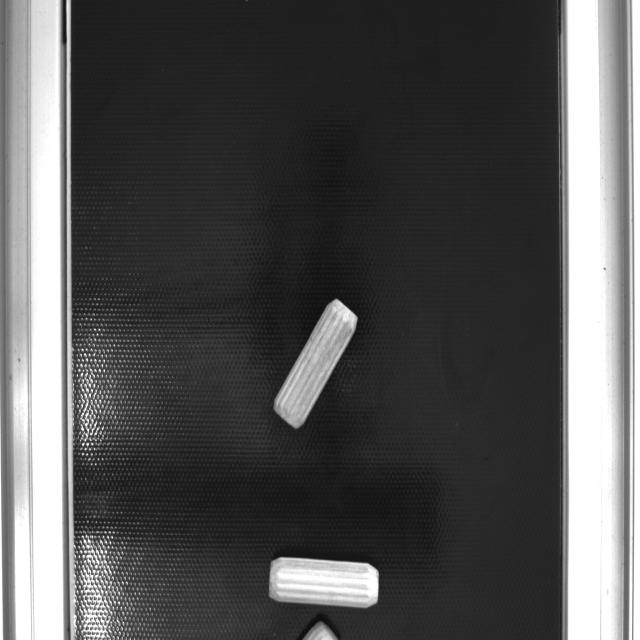Chot go: (271, 295, 363, 433), (267, 554, 379, 611)
